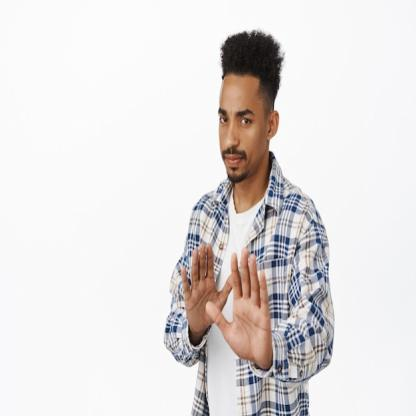stop: (204, 244, 275, 368), (176, 235, 236, 335)
